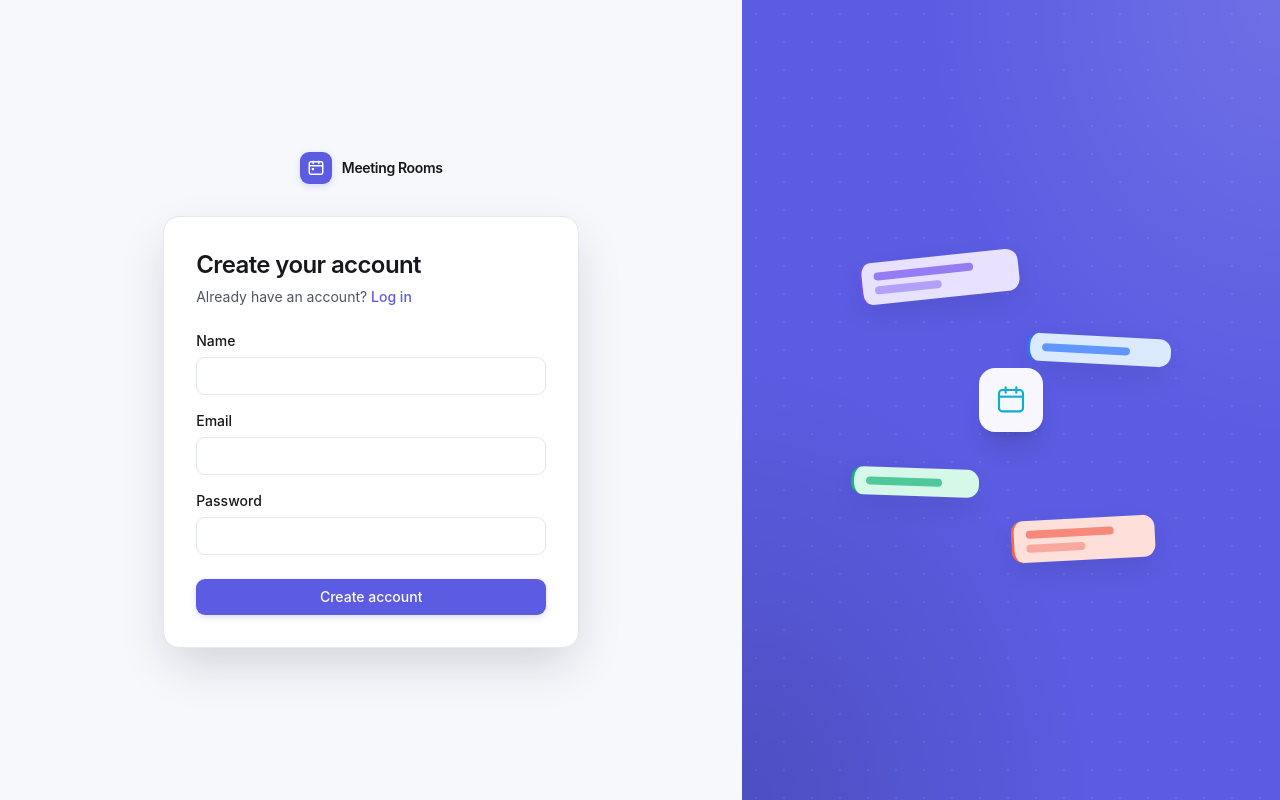
it: RegisterPage field validation › clears the password error as soon as a valid password is typed, without resubmitting
The width and height of the screenshot is (1280, 800).
Type "Ada Lovelace" into the field labelled "Name" at point(371, 376), box [196,357,546,395]
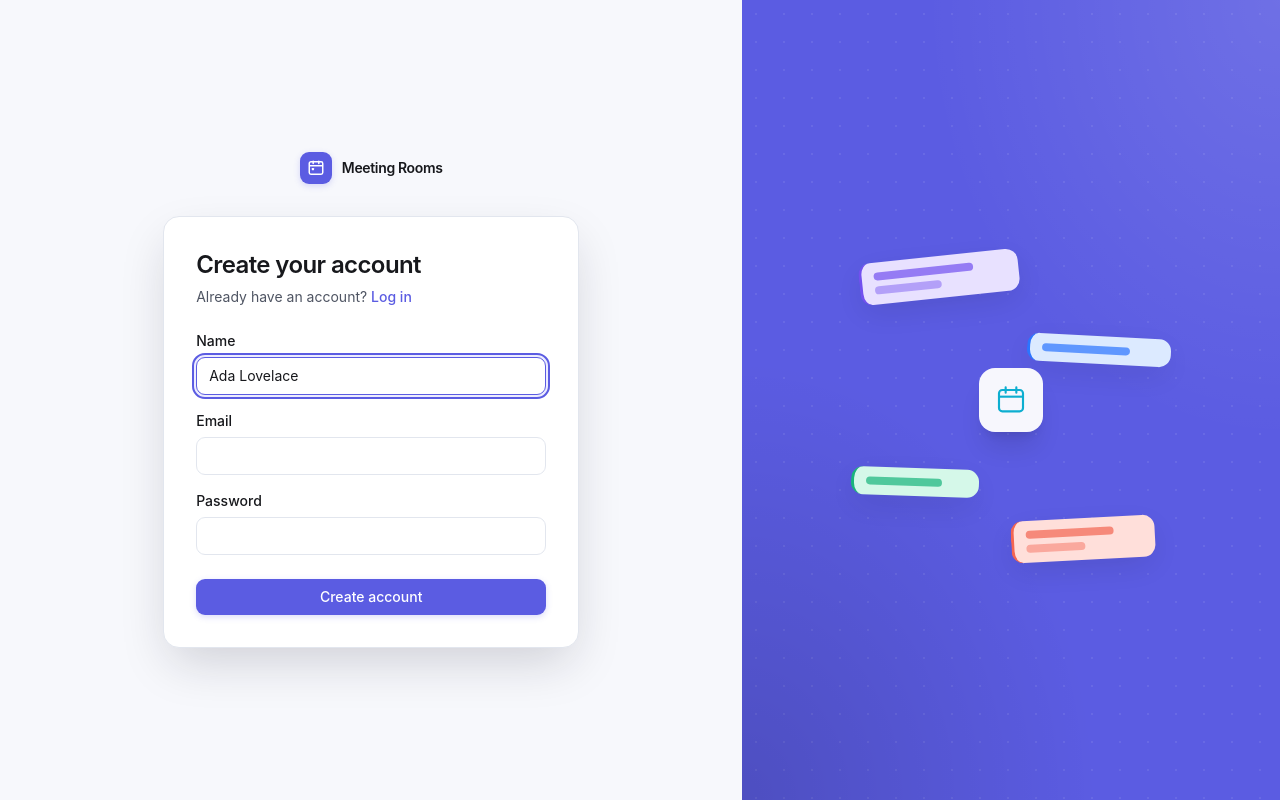
Type "ada@example.com" into the field labelled "Email" at point(371, 456), box [196,437,546,475]
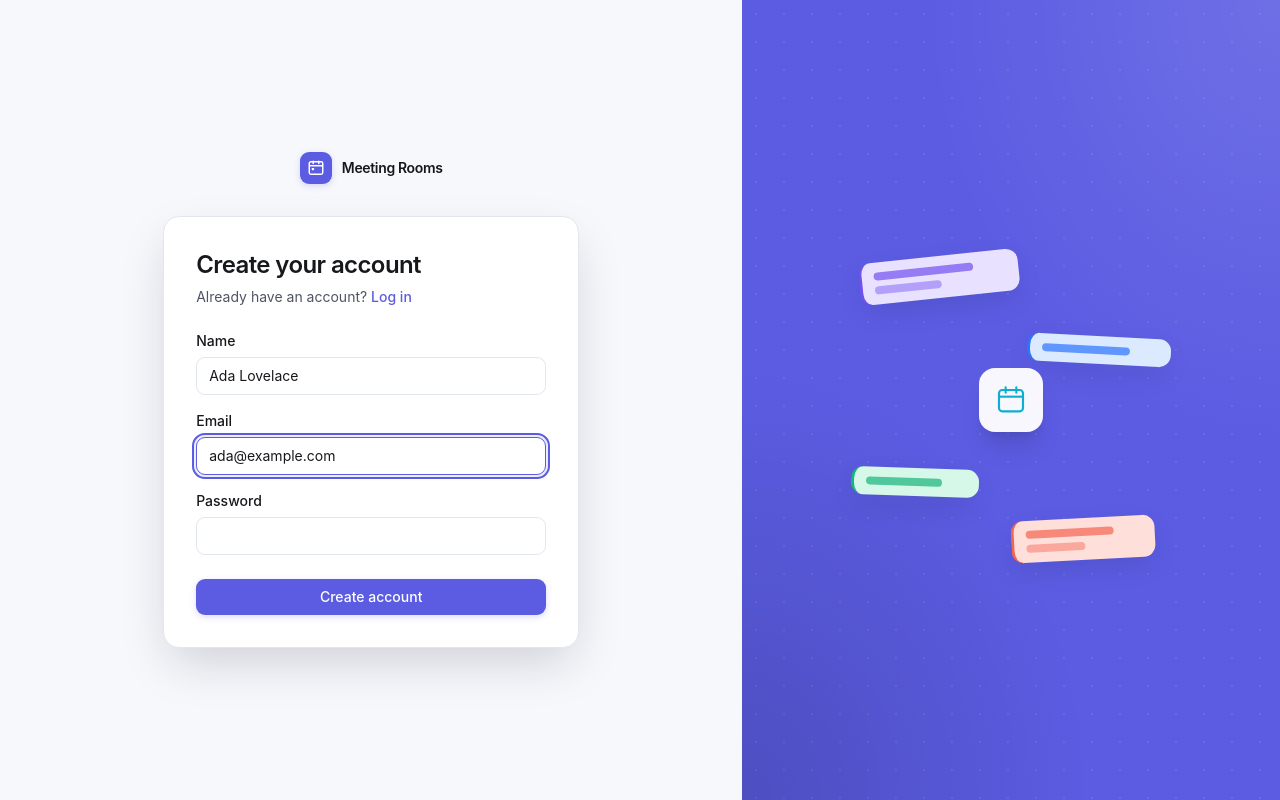
Type "short" into the password field labelled "Password" at point(371, 536), box [196,517,546,555]
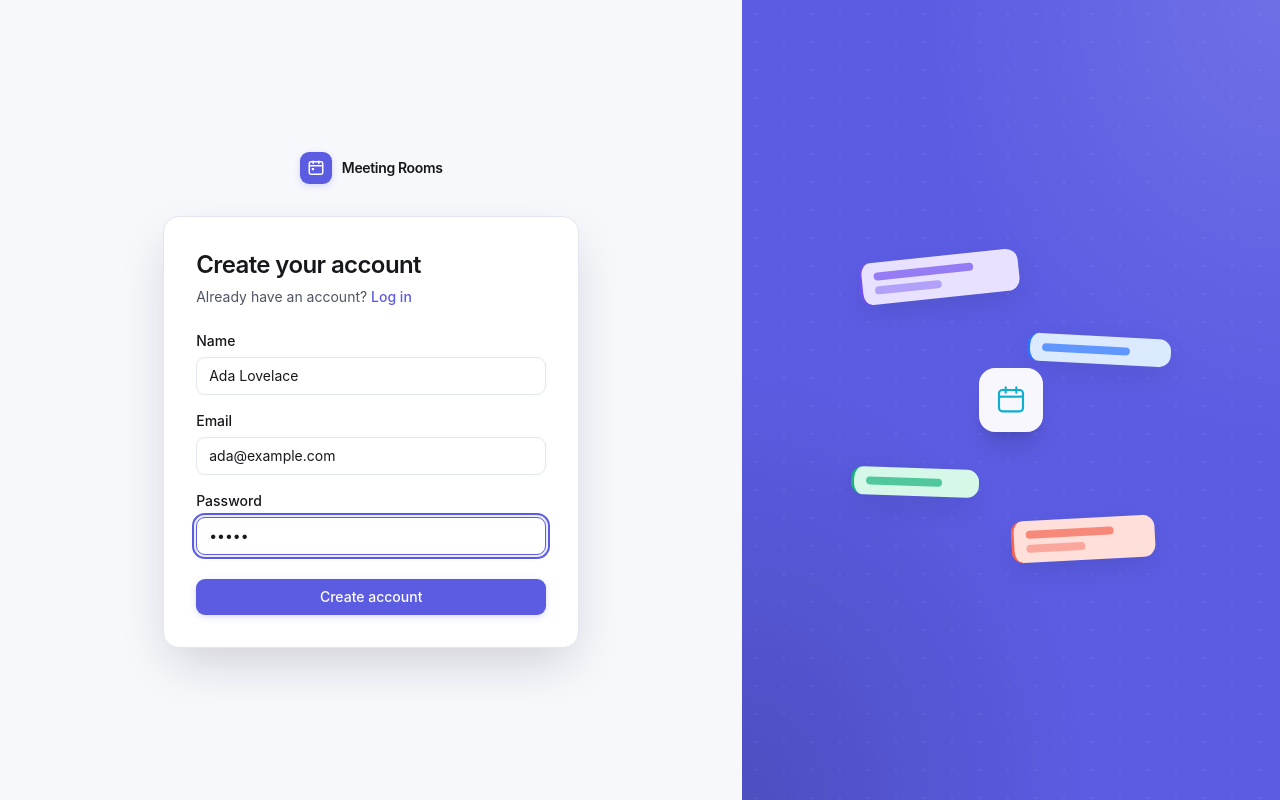
Click the button "Create account" at point(371, 597), box [196,579,546,615]
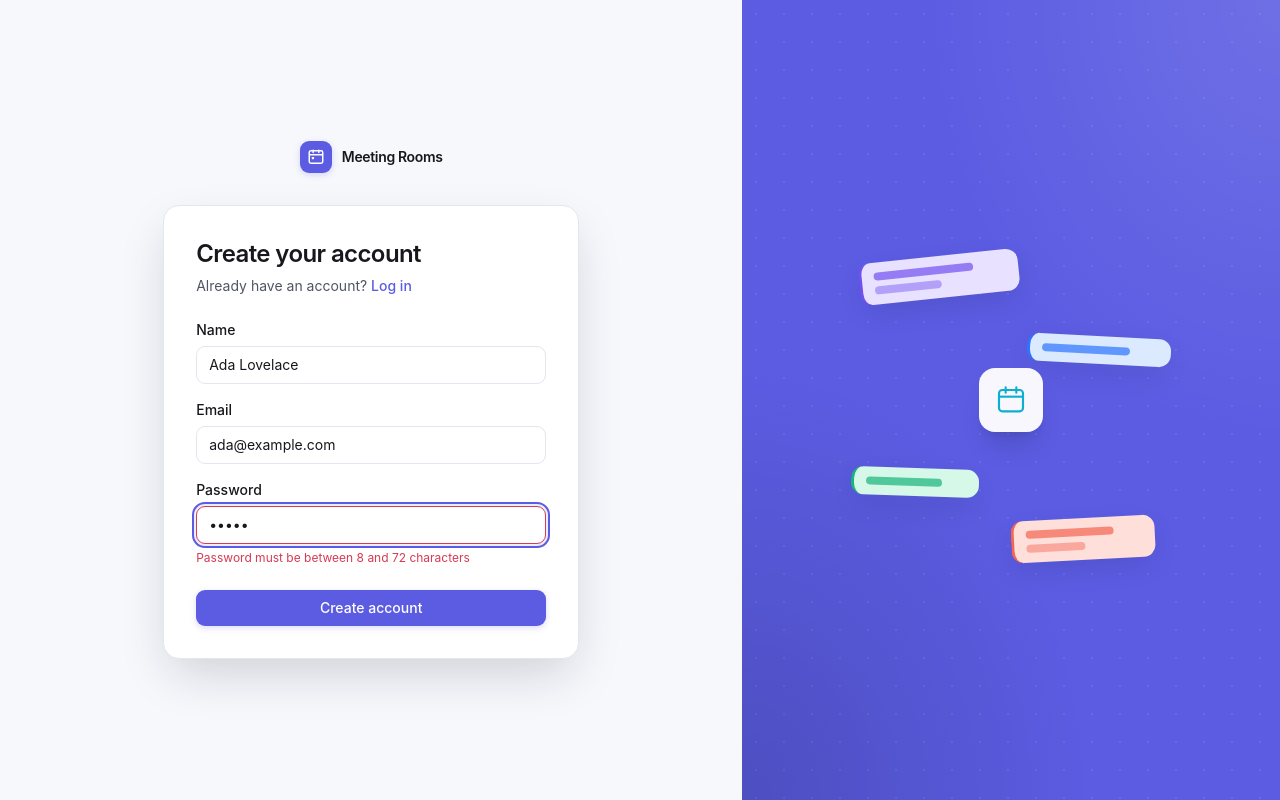
Check: the text "Password must be between 8 and 72 characters" is shown, box [196,550,470,565]
Type "ValidPassword123" into the password field labelled "Password" at point(371, 525), box [196,506,546,544]
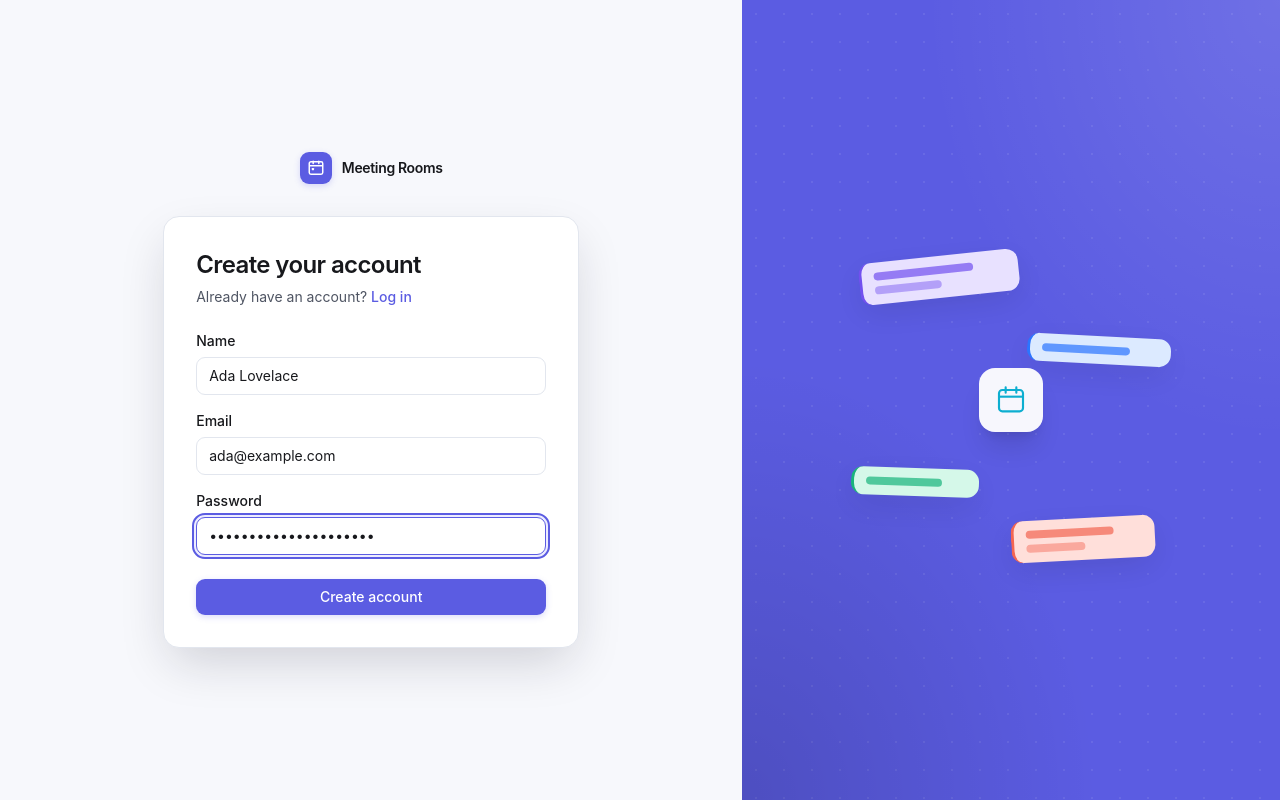
Check: the text "Password must be between 8 and 72 characters" is gone
